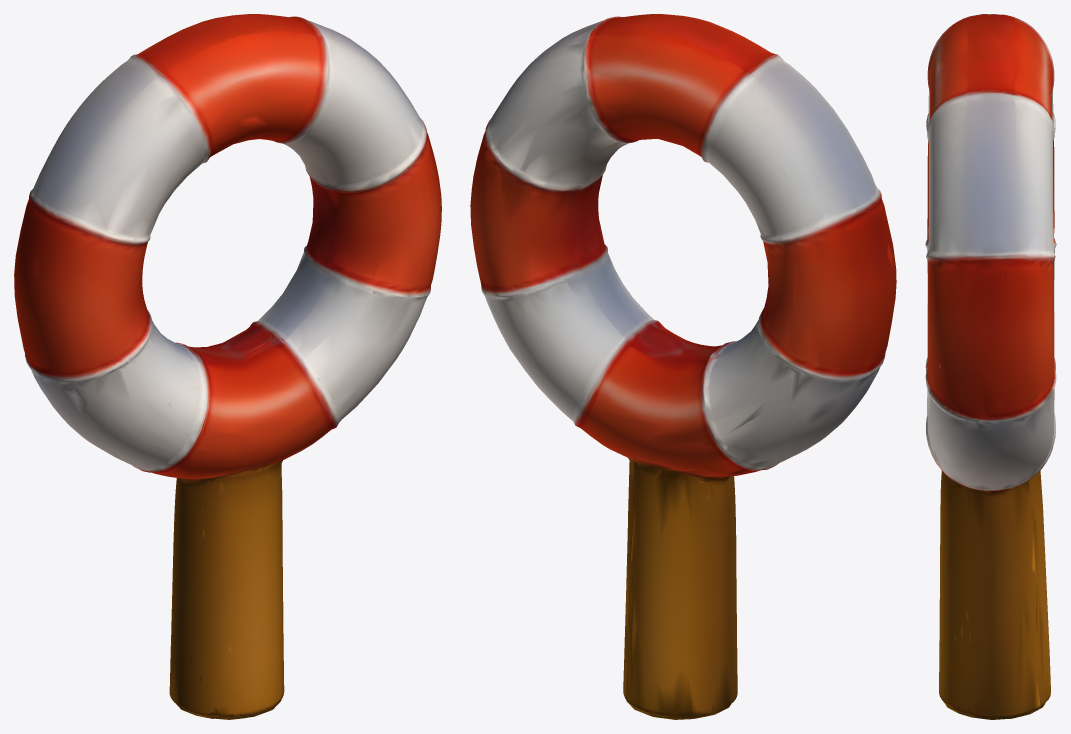
File: lifebuoy.glb
The picture shows the model from 3 angles, left to right: view 1: azimuth 30°, elevation 25°; view 2: azimuth 150°, elevation 25°; view 3: azimuth 270°, elevation 25°; orthographic projection.
Parts seen in each view (by area): view 1: node_0; view 2: node_0; view 3: node_0.
Boxes of the visible parts, x1,y1,x2,y2 form: node_0: [14, 14, 441, 719]; node_0: [470, 14, 896, 719]; node_0: [925, 14, 1056, 719].
Bounding box in the file's own units: 0.7512 × 1.19 × 0.2131.
1 material, 1 textured.
